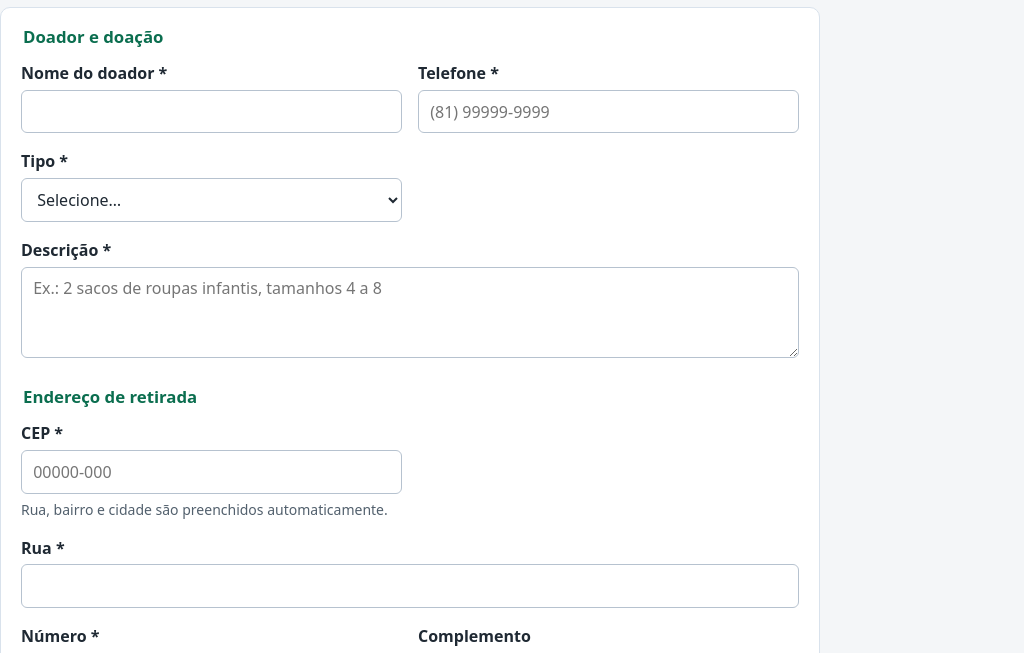
it: resposta atrasada de um CEP antigo não sobrescreve o endereço do CEP novo
Type "50030230" into the field labelled "CEP" at (212, 472), box [21,450,402,494]
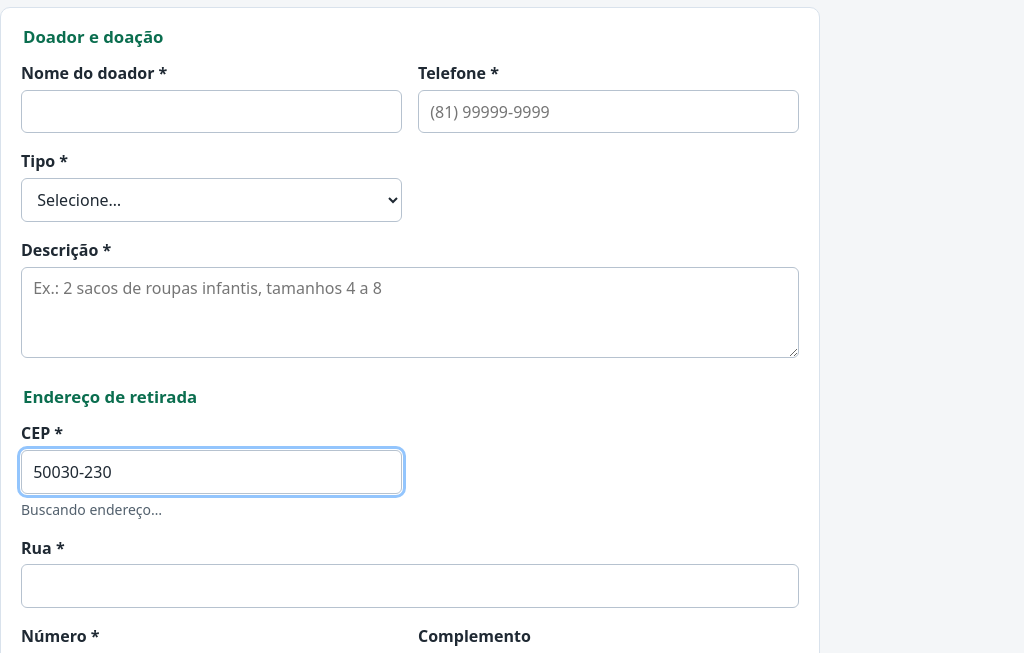
Replace the text in the field labelled "CEP" with "51020000" at (212, 472), box [21,450,402,494]
(page scrolled)
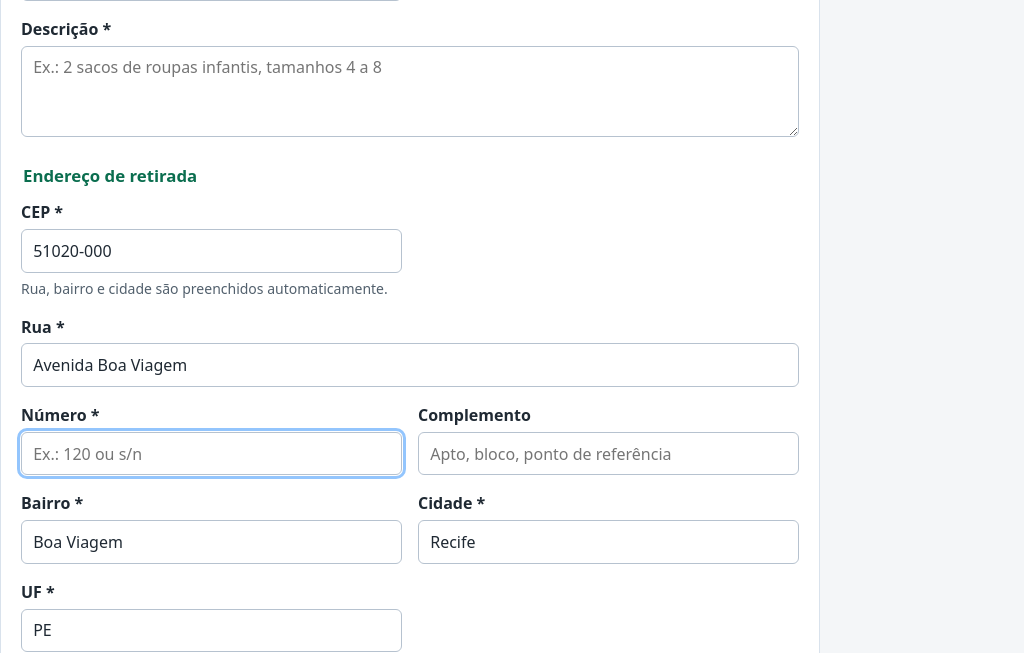
Expected: the field labelled "Rua" holds "Avenida Boa Viagem", [21,343,799,387]
Expected: the field labelled "Bairro" holds "Boa Viagem", [21,520,402,564]
